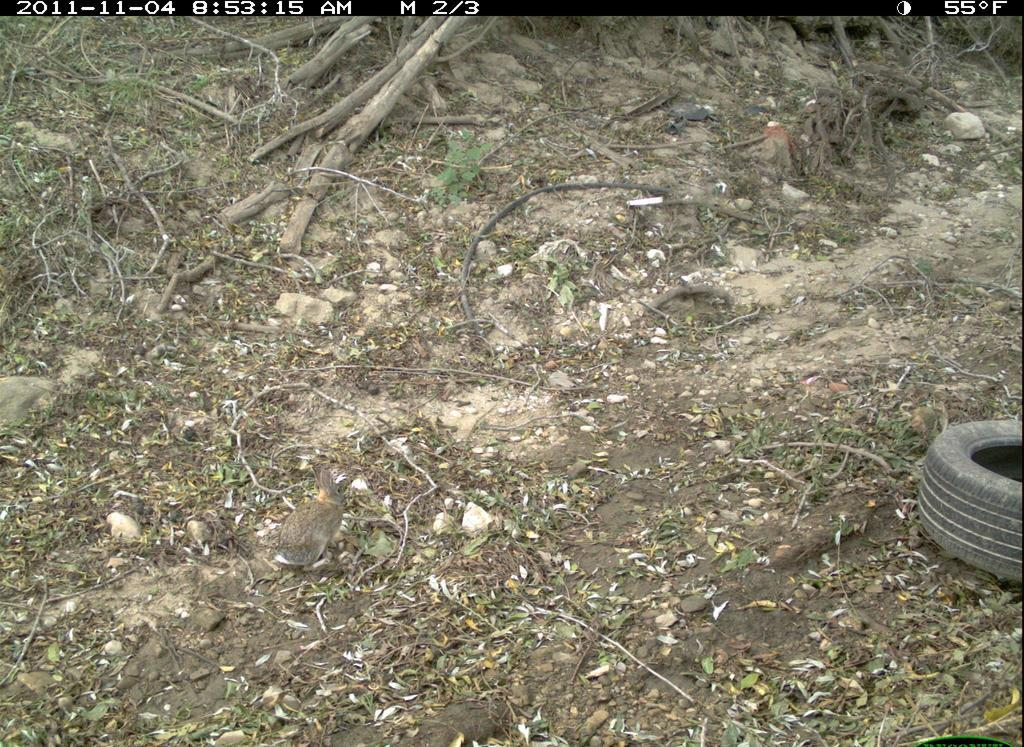rabbit: (265, 459, 360, 582)
